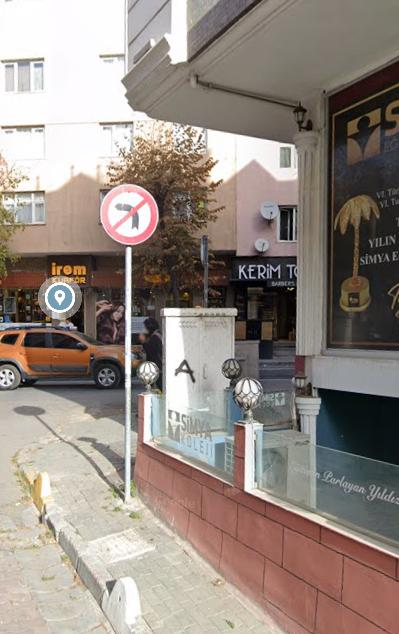leftturnsareforbidden: (95, 179, 162, 248)
